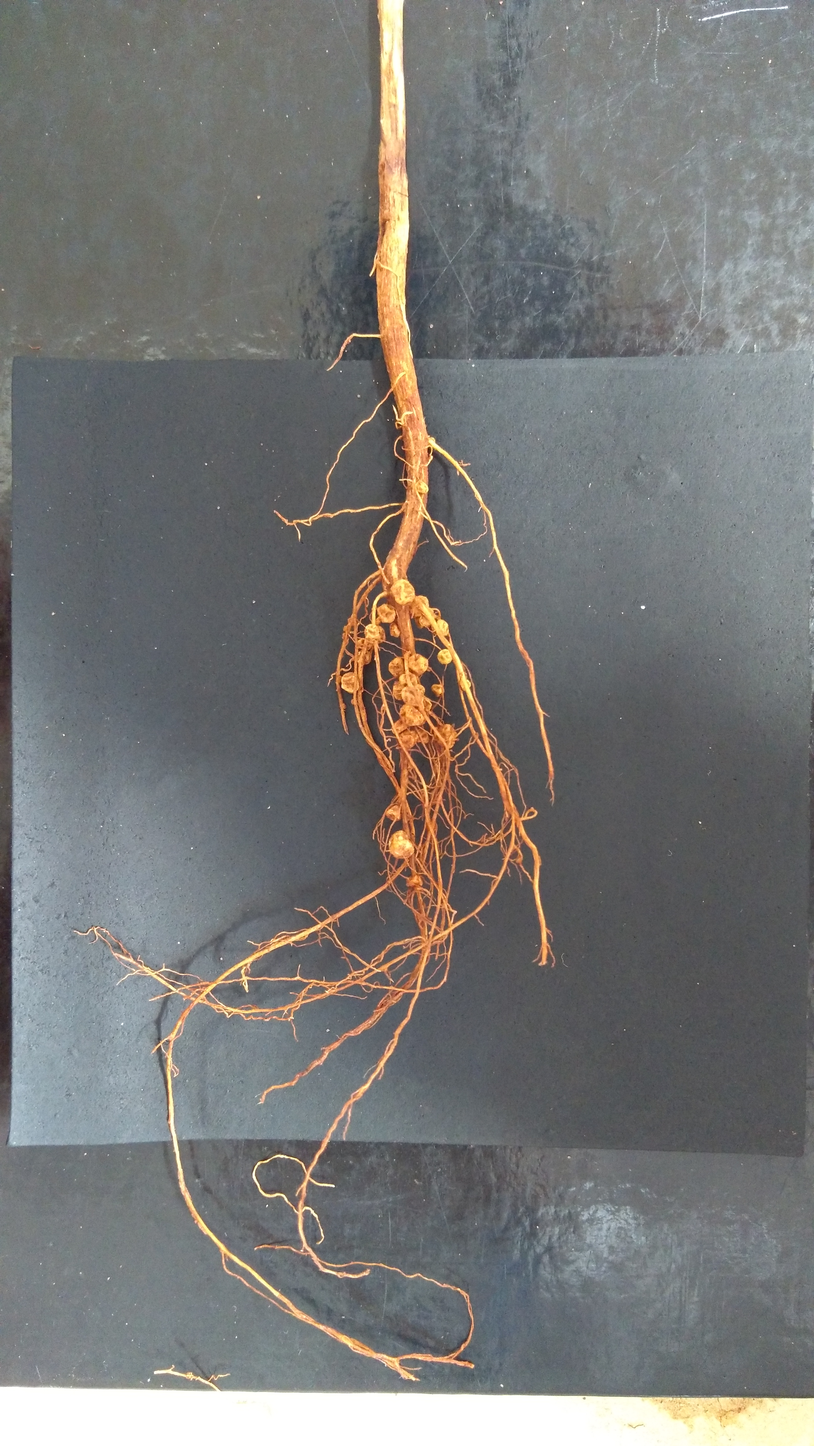nodule: (386, 829, 416, 862), (433, 722, 459, 751), (390, 578, 416, 606), (399, 683, 426, 708), (397, 703, 425, 727), (406, 652, 429, 677), (408, 594, 430, 620), (375, 602, 398, 624), (397, 729, 419, 751), (340, 671, 360, 695), (414, 608, 435, 629), (386, 656, 405, 679), (412, 725, 431, 745), (398, 671, 419, 689), (389, 717, 410, 735), (435, 647, 453, 667), (363, 623, 381, 642), (385, 804, 404, 822), (390, 679, 405, 701), (356, 649, 373, 667), (434, 618, 450, 637), (404, 874, 424, 889), (357, 636, 373, 651), (430, 683, 445, 698), (458, 677, 472, 692), (388, 622, 401, 638), (417, 480, 429, 494), (422, 697, 433, 711)
